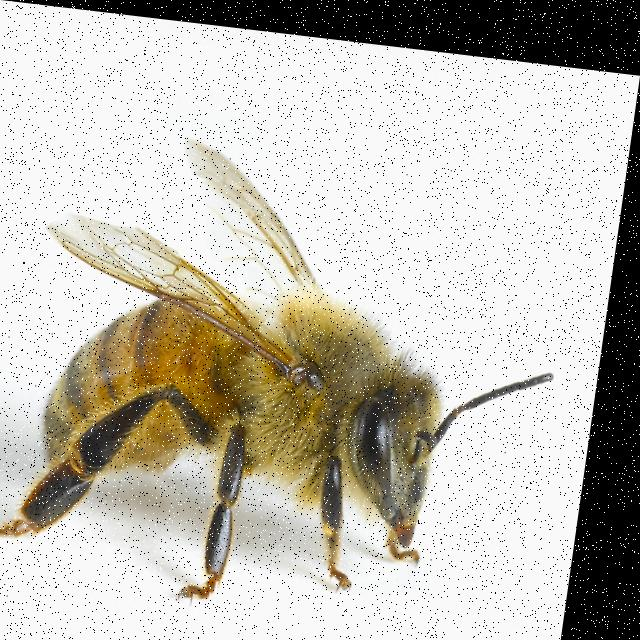Apis-mellifera-scutellata: (0, 109, 554, 640)
